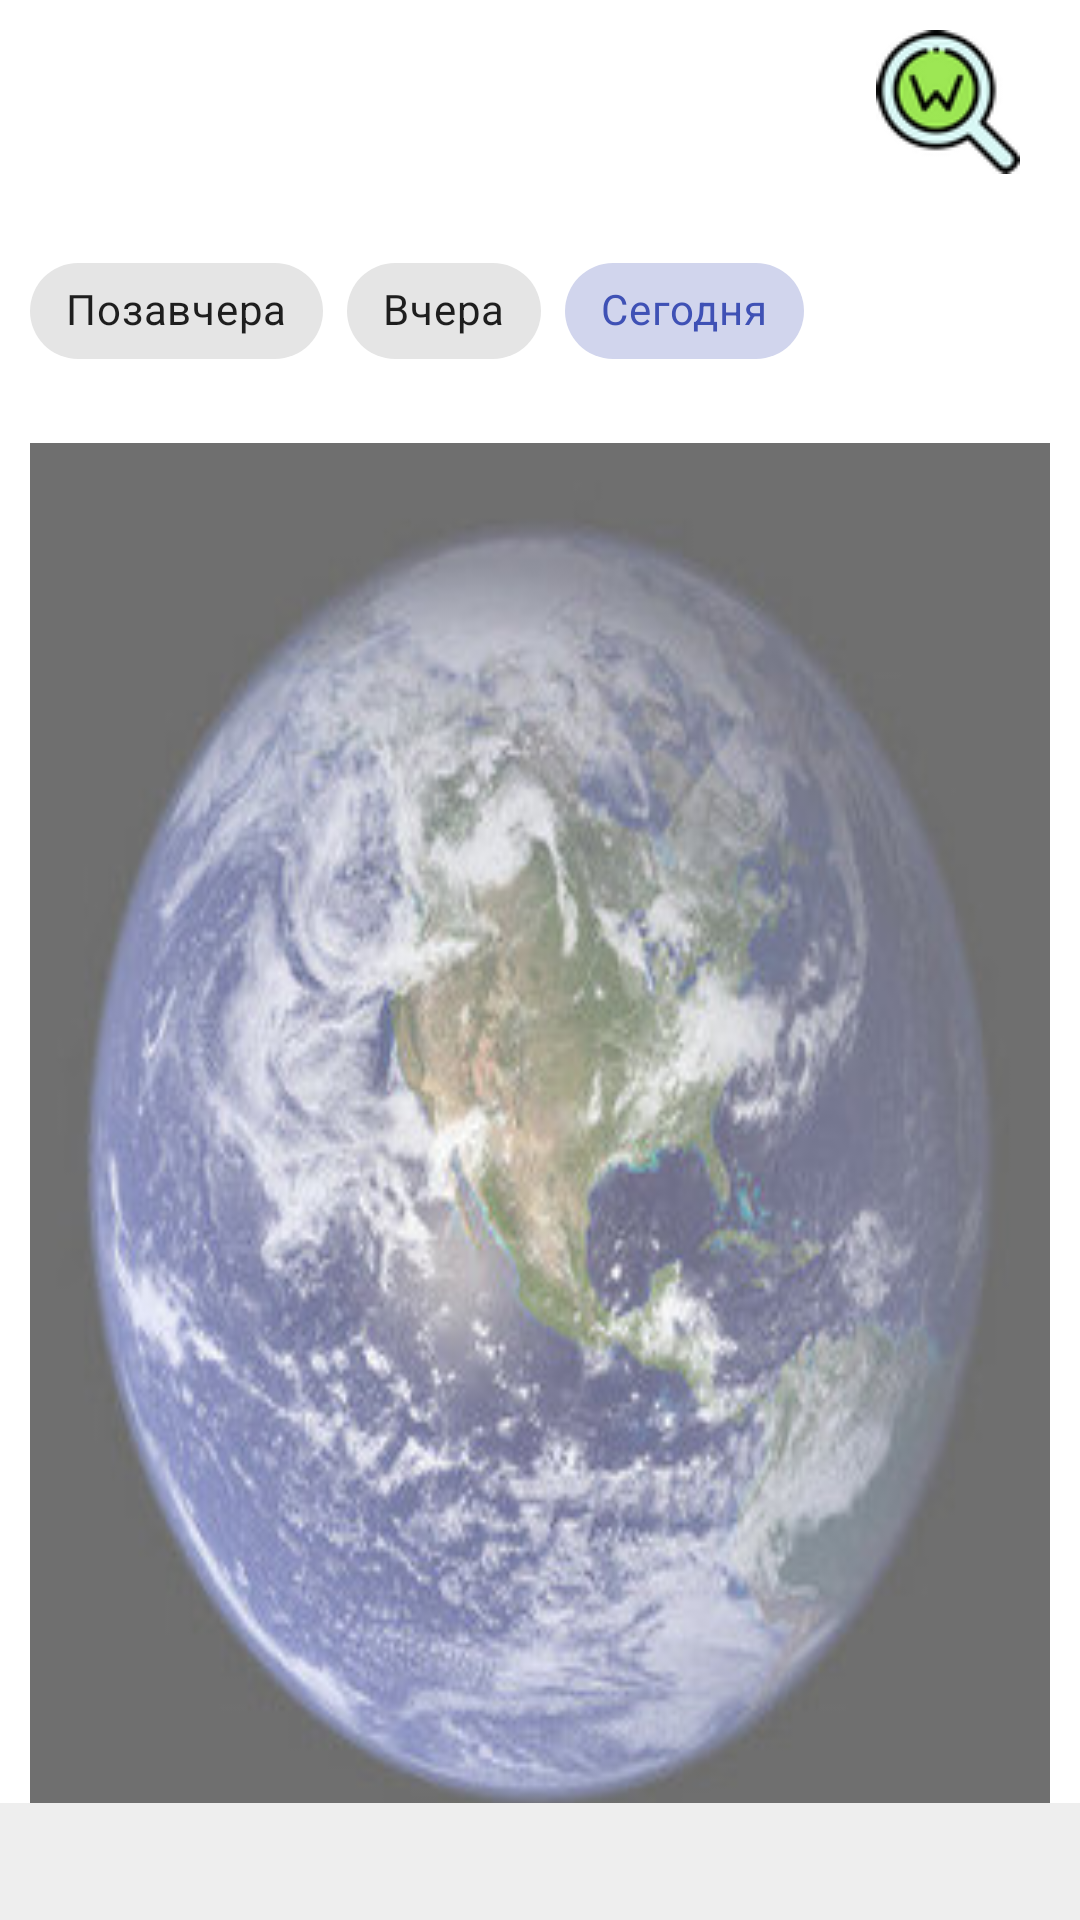

Point at icon controls on the screen. Image size 1080*1920, points as [x,y].
wiki: [948,102]
